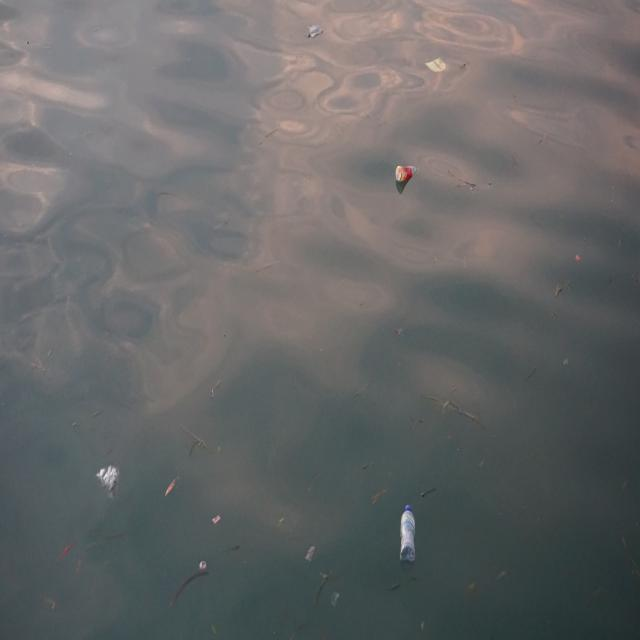Botol Plastik: (397, 497, 418, 569), (395, 163, 422, 187)
Bungkus Makanan: (306, 17, 332, 48)
Kantong Plastik: (94, 457, 124, 506)
